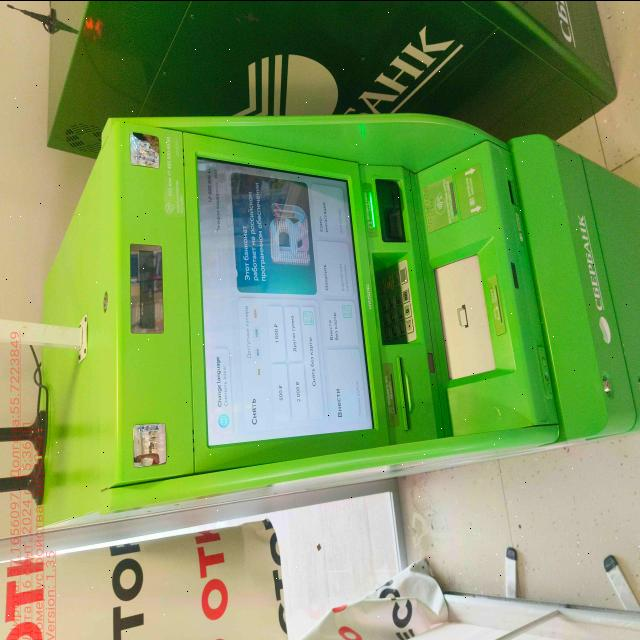bank: (39, 108, 640, 526), (45, 0, 618, 154)
